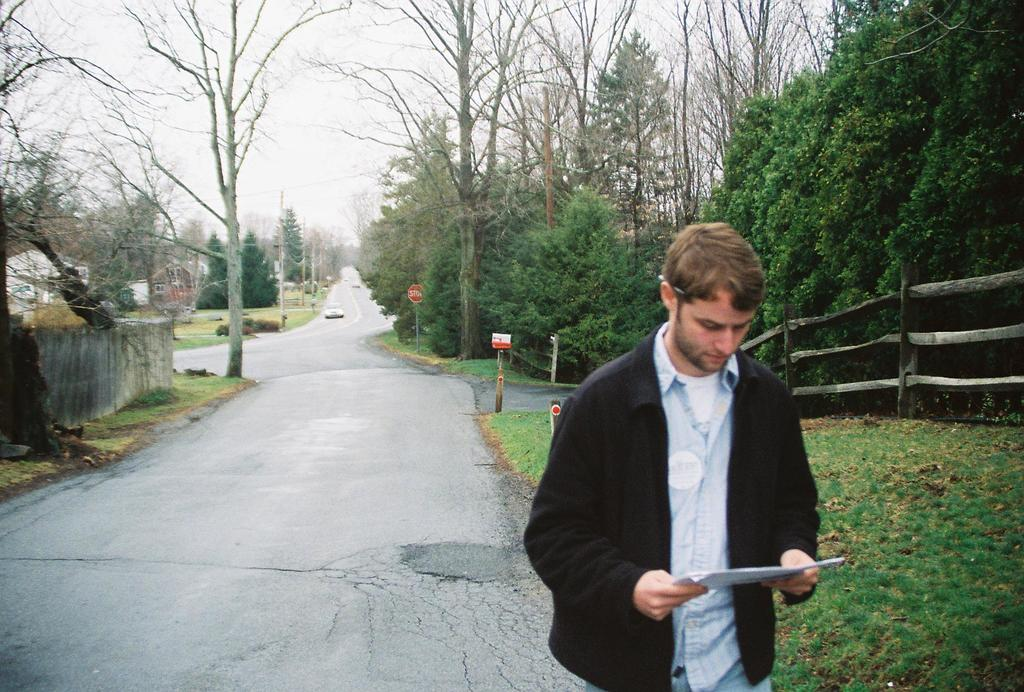Tree: (71, 0, 348, 378), (307, 0, 564, 354), (0, 0, 129, 327), (464, 203, 664, 364), (368, 108, 493, 335), (561, 28, 695, 224), (417, 218, 479, 362), (112, 169, 173, 303), (179, 224, 232, 323), (265, 206, 312, 290), (241, 221, 278, 312)
